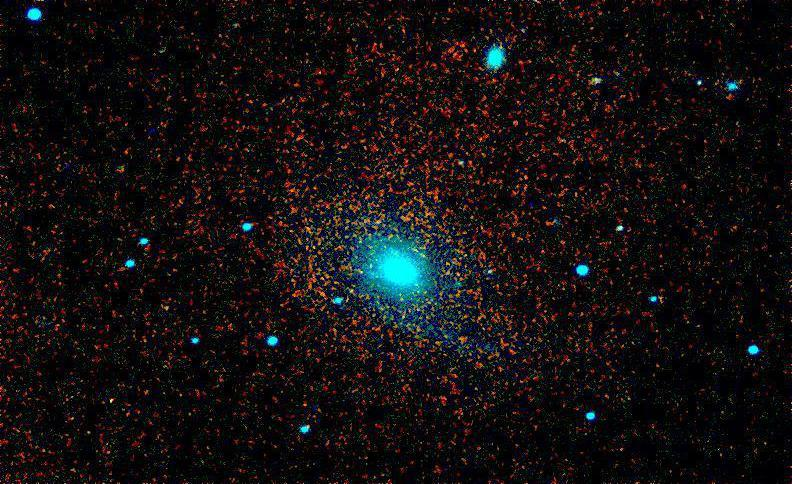star: (498, 110, 528, 140)
